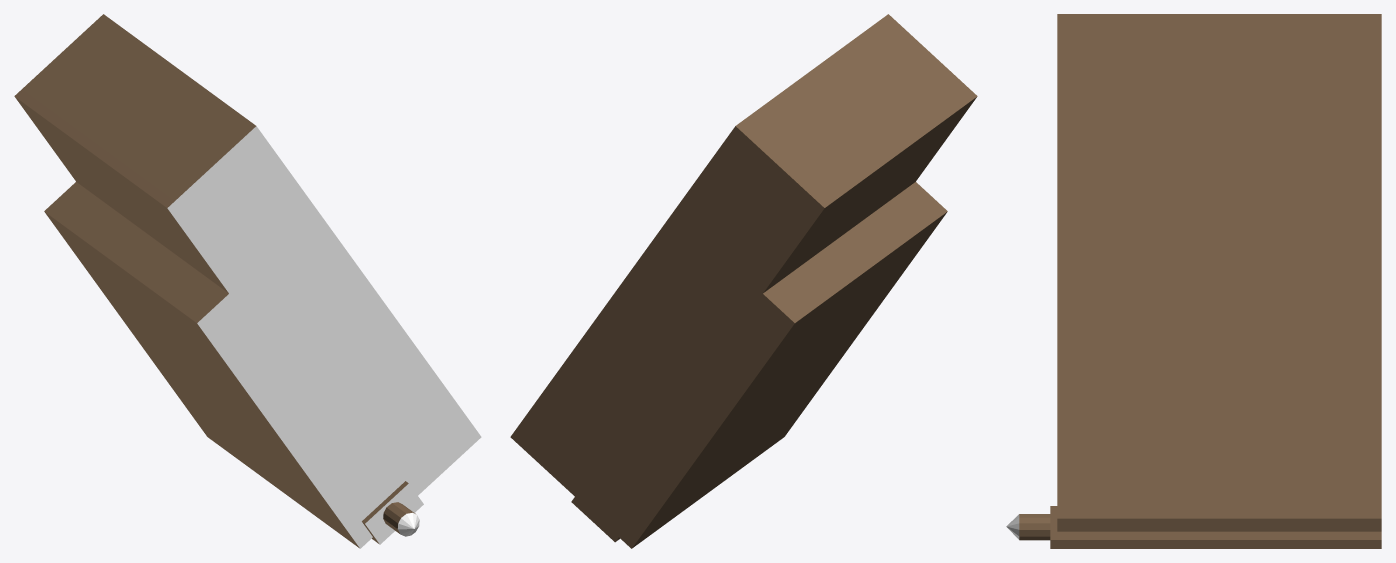
The picture shows the model from 3 angles, left to right: view 1: azimuth 30°, elevation 25°; view 2: azimuth 150°, elevation 25°; view 3: azimuth 270°, elevation 25°; orthographic projection. The views are drawn at different scales.
Parts seen in each view (by area): view 1: City_PC-31857; view 2: City_PC-31857; view 3: City_PC-31857.
Boxes of the visible parts, x1,y1,x2,y2 form: City_PC-31857: (14,14,481,548); City_PC-31857: (510,14,977,548); City_PC-31857: (1006,14,1381,548).
Size of the model in its own units: 1680 by 2289 by 1639.
